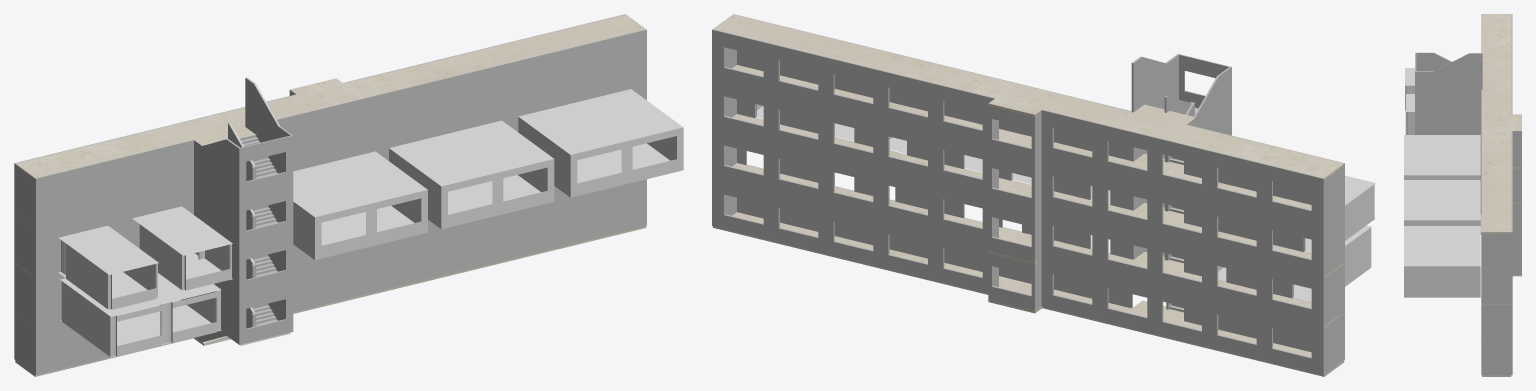
The model's file is CORRIDOR_NEW.fbx.
3 views of the same model, side by side, from view 1: azimuth 30°, elevation 25°; view 2: azimuth 150°, elevation 25°; view 3: azimuth 270°, elevation 25° (orthographic). The views are drawn at different scales.
Visible parts, largest first — view 1: wall_2, wall_1, floor_1, shadow.002, shadow.001, wall, shadow, wall_3, wall.001, wall_men, wall_women, ceiling.001 (+10 smaller); view 2: wall_2, wall_1, wall, wall_3, floor_1, floor_2, floor_3, floor, floor_4, wall.001, wall_men, stair_1; view 3: floor_1, shadow.002, wall_2, wall, shadow.001, shadow, wall_3, wall_1, wall_women, ceiling, ceiling.001, floor_2.
Boxes of the visible parts, <box> form: wall_2: <box>14,14,646,227</box>; wall_1: <box>14,179,646,374</box>; floor_1: <box>15,14,645,179</box>; shadow.002: <box>518,89,683,197</box>; shadow.001: <box>389,120,554,229</box>; wall: <box>14,79,646,276</box>; shadow: <box>293,151,427,259</box>; wall_3: <box>14,186,567,325</box>; wall.001: <box>61,281,220,356</box>; wall_men: <box>61,240,157,309</box>; wall_women: <box>139,224,231,290</box>; ceiling.001: <box>132,206,232,255</box>; wall_2: <box>712,14,1344,227</box>; wall_1: <box>712,164,1344,375</box>; wall: <box>712,79,1344,276</box>; wall_3: <box>712,117,1344,325</box>; floor_1: <box>713,14,1344,180</box>; floor_2: <box>713,212,1344,376</box>; floor_3: <box>732,163,1343,327</box>; floor: <box>732,114,1344,277</box>; floor_4: <box>732,65,1311,209</box>; wall.001: <box>1218,227,1371,297</box>; wall_men: <box>1304,184,1374,250</box>; stair_1: <box>1143,96,1197,164</box>; floor_1: <box>1482,14,1521,233</box>; shadow.002: <box>1404,226,1480,297</box>; wall_2: <box>1415,14,1521,267</box>; wall: <box>1415,89,1521,303</box>; shadow.001: <box>1404,180,1480,225</box>; shadow: <box>1404,135,1480,179</box>; wall_3: <box>1451,125,1521,339</box>; wall_1: <box>1480,161,1521,375</box>; wall_women: <box>1406,112,1414,134</box>; ceiling: <box>1405,68,1414,85</box>; ceiling.001: <box>1406,94,1414,111</box>; floor_2: <box>1480,214,1521,376</box>.
Size of the model in its own units: 5518 by 2136 by 1262.
